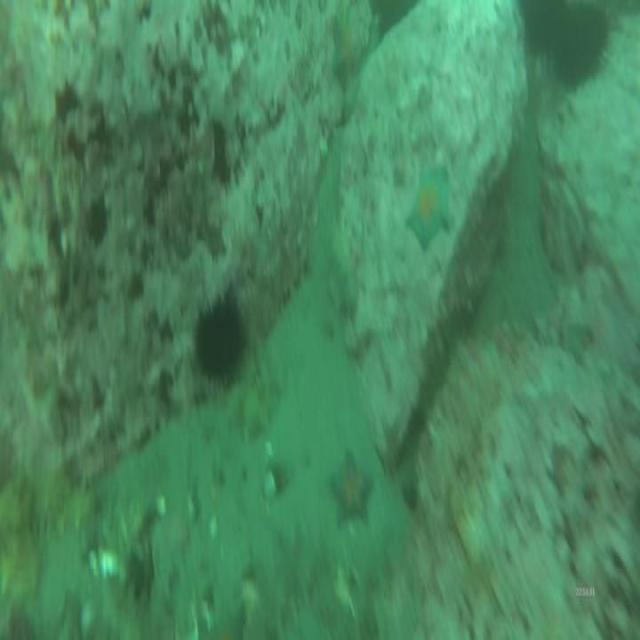echinus: (560, 6, 607, 82), (199, 310, 245, 384), (525, 3, 567, 43)
holothurian: (31, 487, 95, 528)
starfish: (409, 174, 448, 243), (331, 458, 373, 522)
